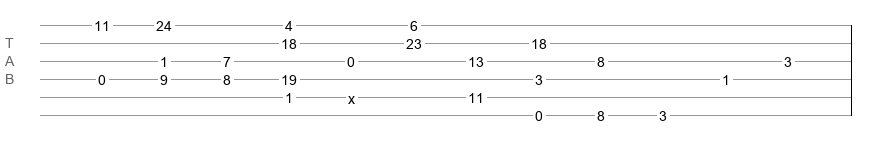0: (98, 72, 106, 82), (347, 54, 355, 64), (535, 108, 543, 118)
1: (160, 54, 168, 64), (285, 90, 293, 100), (722, 72, 730, 82)
11: (94, 18, 110, 28), (468, 90, 484, 100)
13: (468, 54, 484, 64)
18: (281, 36, 297, 46), (531, 36, 547, 46)
19: (281, 72, 297, 82)
23: (406, 36, 422, 46)
24: (156, 18, 172, 28)
3: (535, 72, 543, 82), (659, 108, 667, 118), (784, 54, 792, 64)
4: (285, 18, 293, 28)
6: (410, 18, 418, 28)
7: (223, 54, 231, 64)
8: (223, 72, 231, 82), (597, 108, 605, 118), (597, 54, 605, 64)
9: (160, 72, 168, 82)
x: (348, 91, 355, 99)
